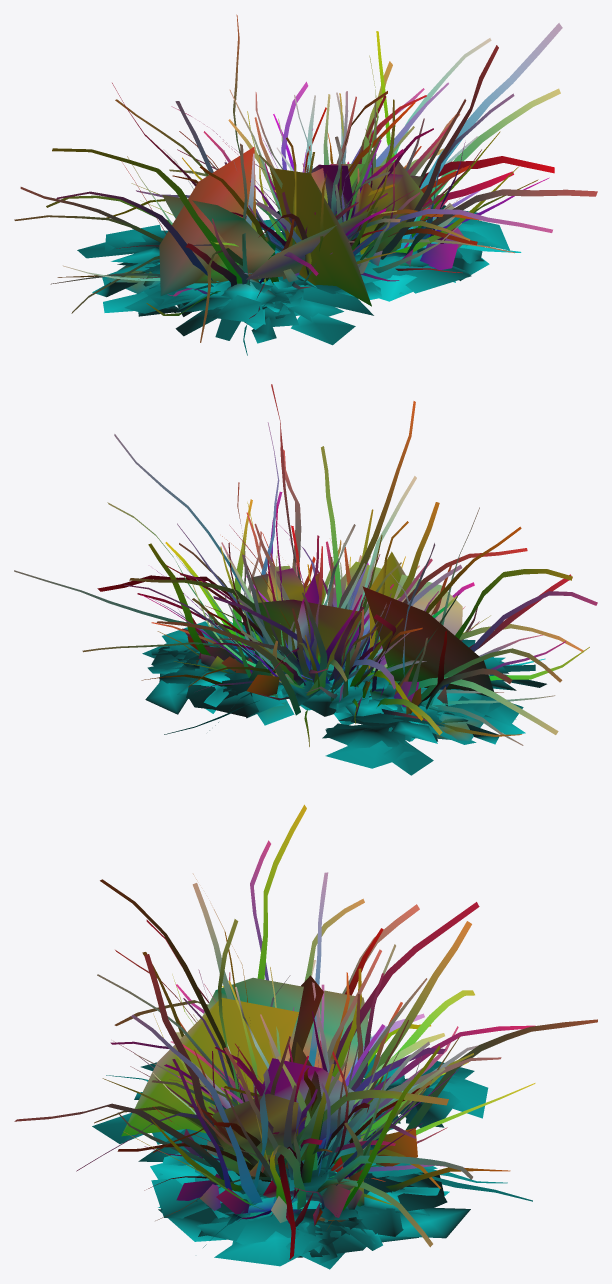
Rendered from Wild_Grass_vczndjqja_Mid_vczndjqja_VarF_LOD2.fbx.
3 views of the same model, one above another, from view 1: azimuth 30°, elevation 25°; view 2: azimuth 150°, elevation 25°; view 3: azimuth 270°, elevation 25° (orthographic). The views are drawn at different scales.
Parts seen in each view (by area): view 1: _qmr8_VarF_LOD3; view 2: _qmr8_VarF_LOD3; view 3: _qmr8_VarF_LOD3.
Part boxes in pixels (box(x1,y1,x2,y2)): _qmr8_VarF_LOD3: box(14, 14, 597, 355); _qmr8_VarF_LOD3: box(14, 384, 597, 775); _qmr8_VarF_LOD3: box(14, 804, 597, 1269).
Bounding box in the file's own units: 123 × 53.55 × 99.95.
